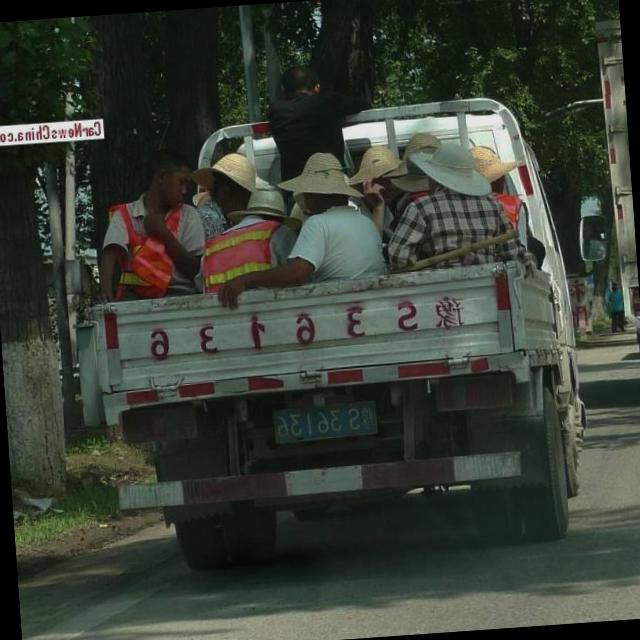vest: (108, 218, 186, 291), (206, 220, 284, 286)
